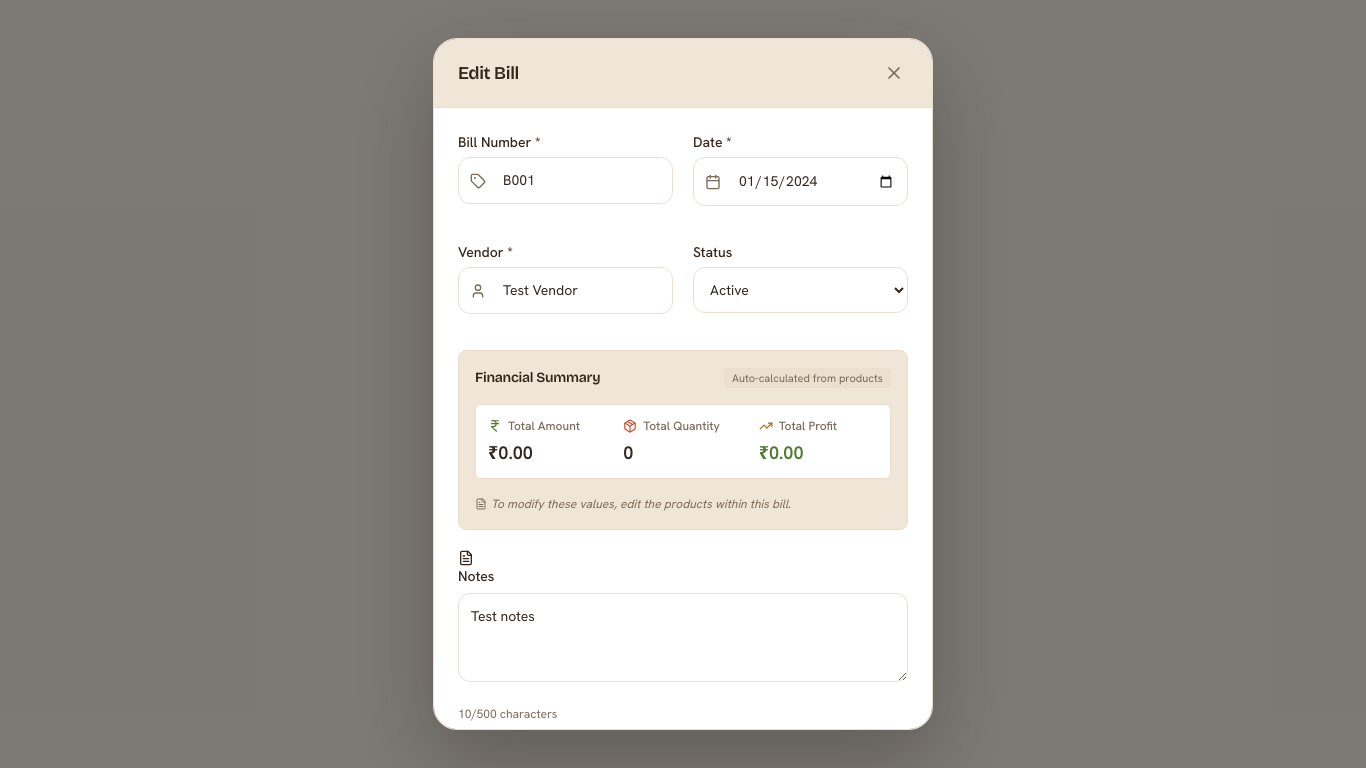
Test case: BillEditModal › Form Validation › shows error when bill number is empty
Clear the field showing "B001" at (566, 181), box [458, 157, 673, 204]
(page scrolled)
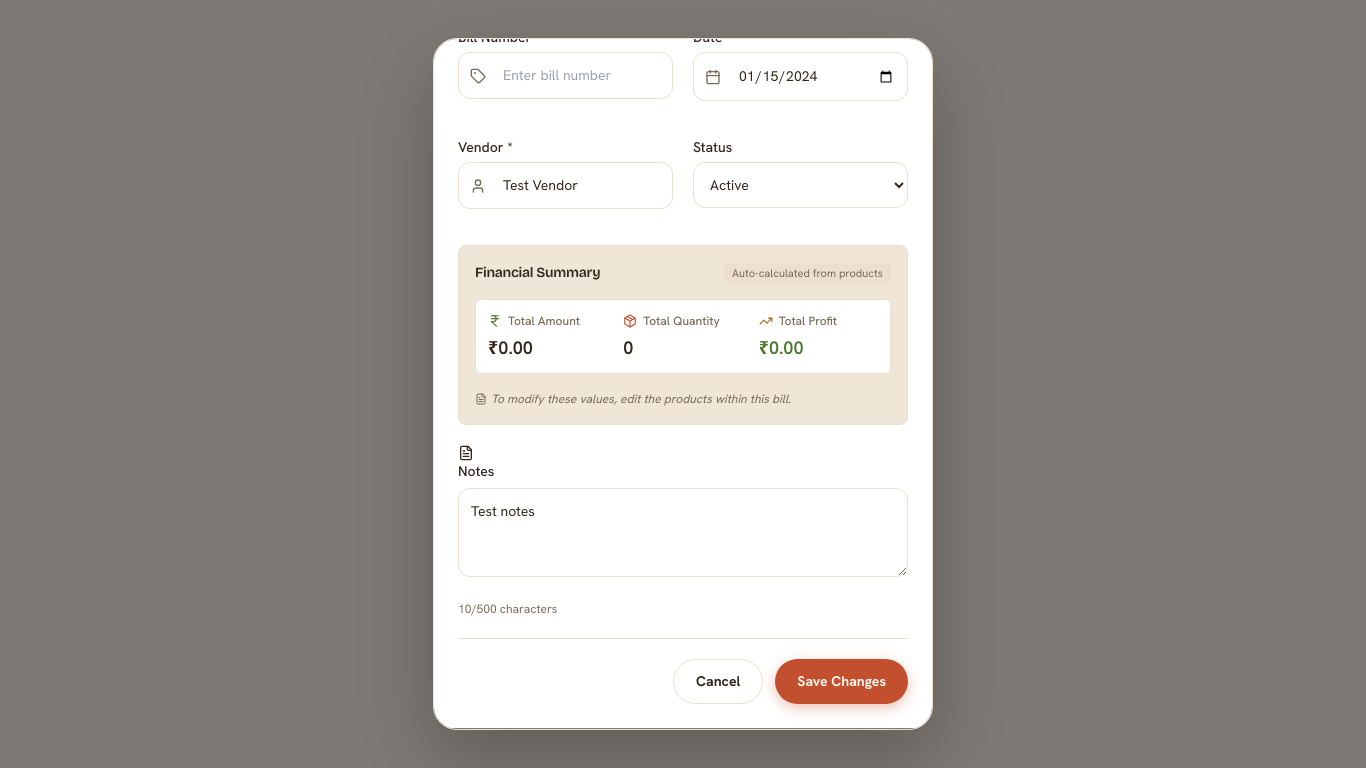
Click the button "Save Changes" at (842, 682), box [775, 659, 908, 704]
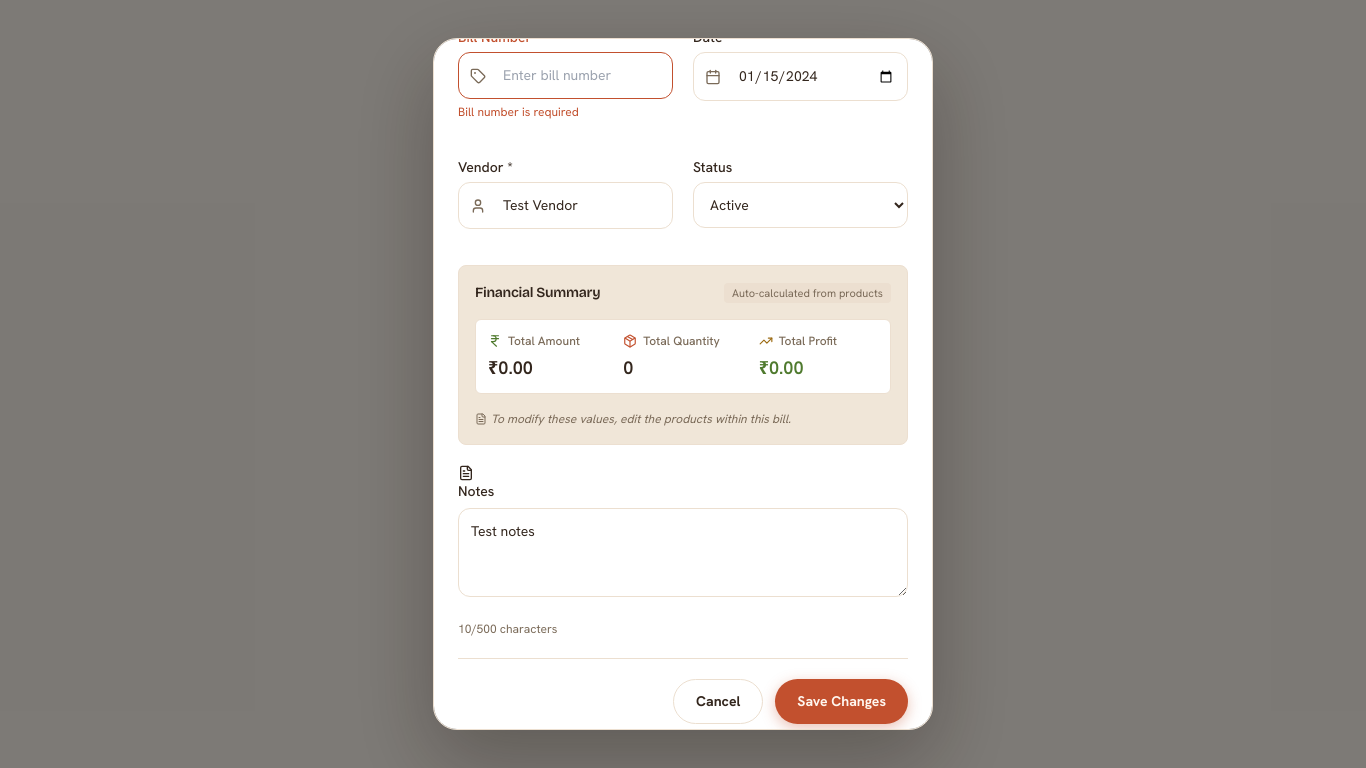
Result: the text "Bill number is required" is shown at [458, 104, 579, 120]
